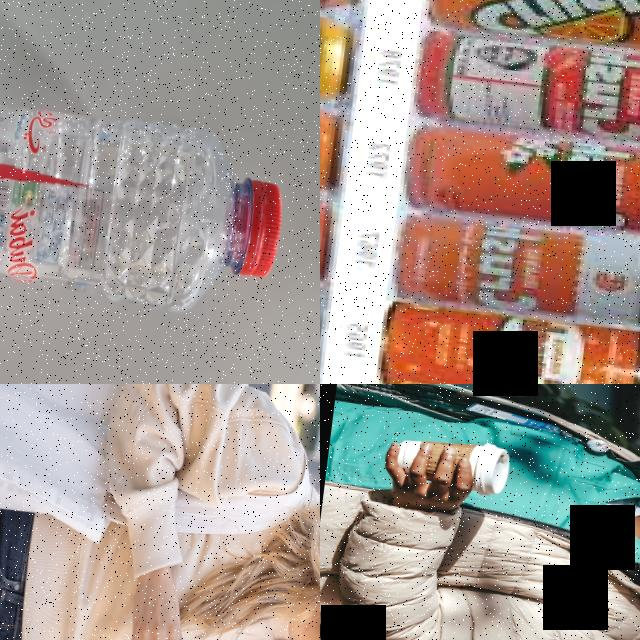bottle: (0, 65, 290, 322)
can: (388, 206, 640, 331), (411, 25, 640, 152), (400, 119, 640, 236), (376, 299, 640, 384), (424, 0, 640, 57)
cup: (390, 432, 514, 497)
